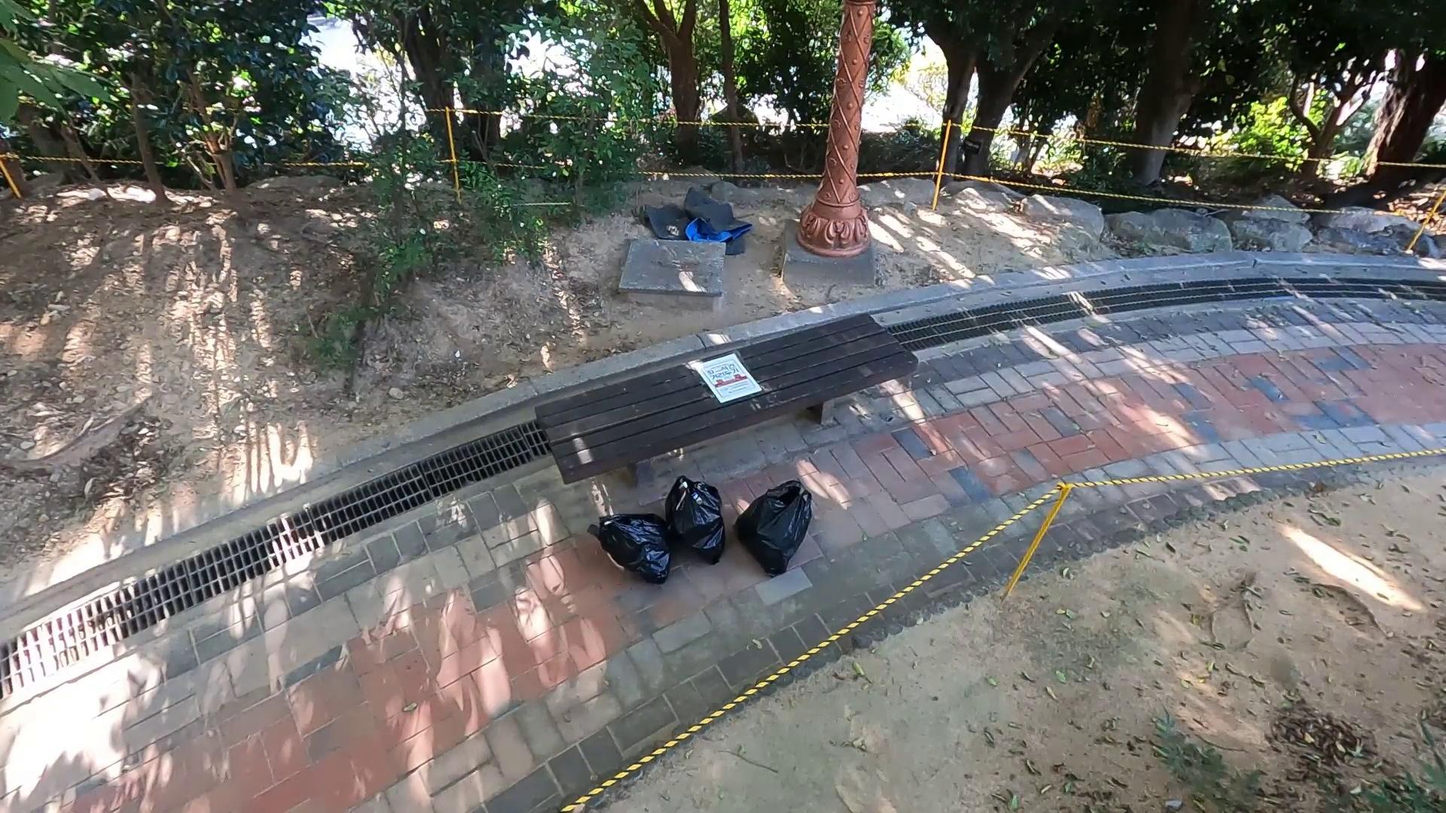trash: (727, 475, 816, 585), (645, 183, 755, 265), (588, 503, 678, 592), (658, 471, 732, 567)
